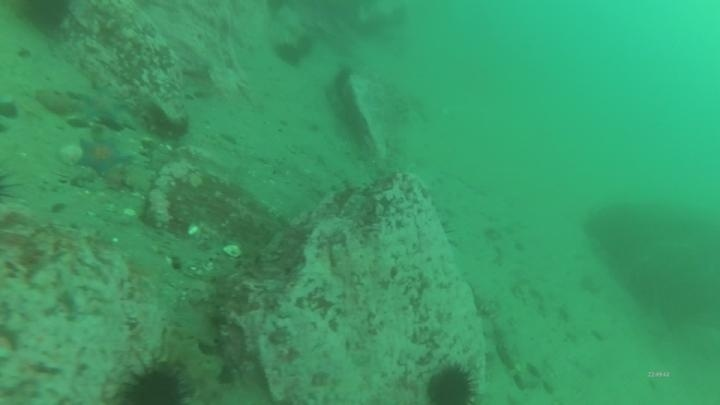echinus: (116, 357, 191, 404), (423, 362, 479, 404), (12, 1, 74, 36), (272, 38, 306, 69), (291, 33, 317, 62)
holothurian: (157, 325, 227, 403), (138, 93, 191, 142)
starfish: (67, 82, 134, 130), (75, 135, 133, 178)
